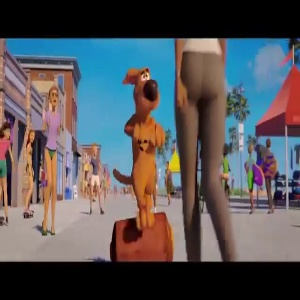Scooby: (120, 64, 165, 122)
